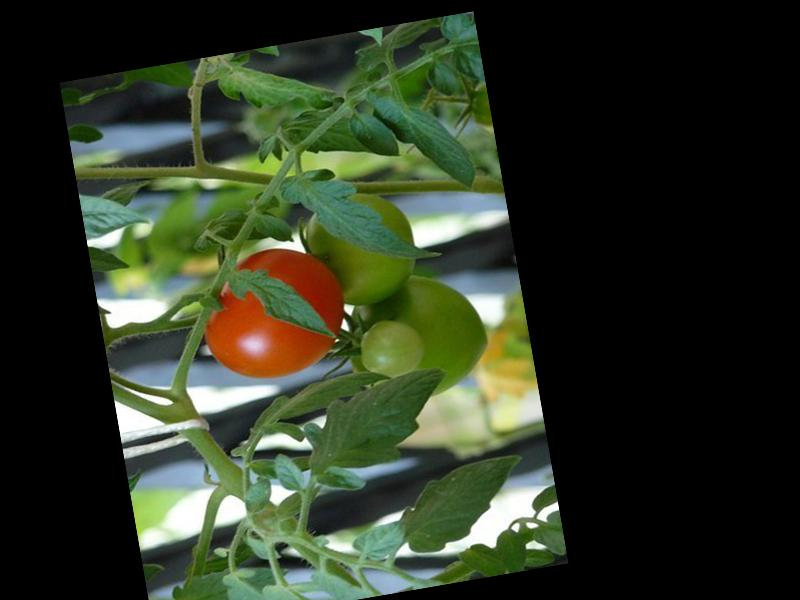Tomato: (192, 238, 352, 389)
